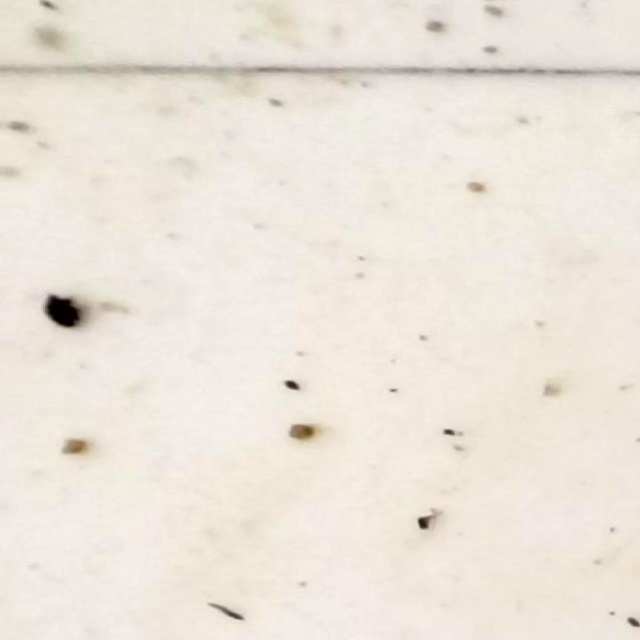varroa: (37, 290, 86, 329)
